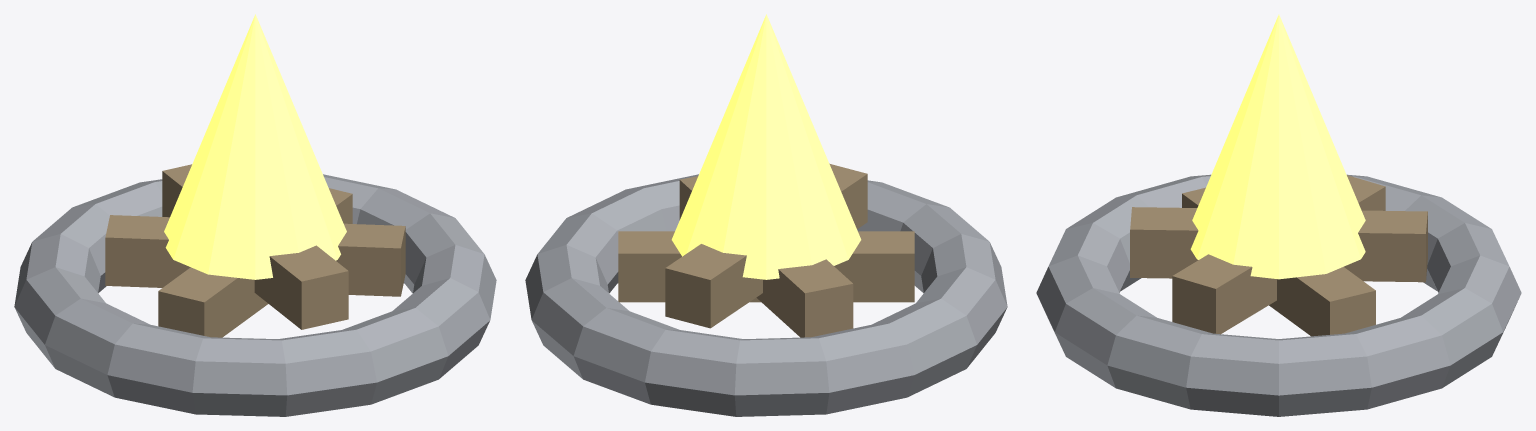
File: campfire.glb
3 views of the same model, side by side, from view 1: azimuth 30°, elevation 25°; view 2: azimuth 150°, elevation 25°; view 3: azimuth 270°, elevation 25° (orthographic).
Visible parts, largest first — view 1: campfire ring, campfire flame, campfire log 2, campfire log 3, campfire log 1; view 2: campfire ring, campfire flame, campfire log 1, campfire log 3, campfire log 2; view 3: campfire ring, campfire flame, campfire log 3, campfire log 2, campfire log 1.
Part boxes in pixels (bbox=[...]): campfire ring: bbox=[14, 174, 496, 416]; campfire flame: bbox=[164, 14, 346, 279]; campfire log 2: bbox=[105, 215, 405, 296]; campfire log 3: bbox=[162, 164, 348, 329]; campfire log 1: bbox=[158, 188, 352, 337]; campfire ring: bbox=[525, 174, 1007, 416]; campfire flame: bbox=[671, 14, 861, 279]; campfire log 1: bbox=[618, 231, 914, 302]; campfire log 3: bbox=[665, 163, 867, 328]; campfire log 2: bbox=[679, 176, 853, 337]; campfire ring: bbox=[1036, 174, 1521, 416]; campfire flame: bbox=[1190, 14, 1365, 279]; campfire log 3: bbox=[1130, 207, 1427, 282]; campfire log 2: bbox=[1172, 175, 1385, 334]; campfire log 1: bbox=[1182, 187, 1375, 336].
Bounding box in the file's own units: 0.82 × 0.59 × 0.82.
